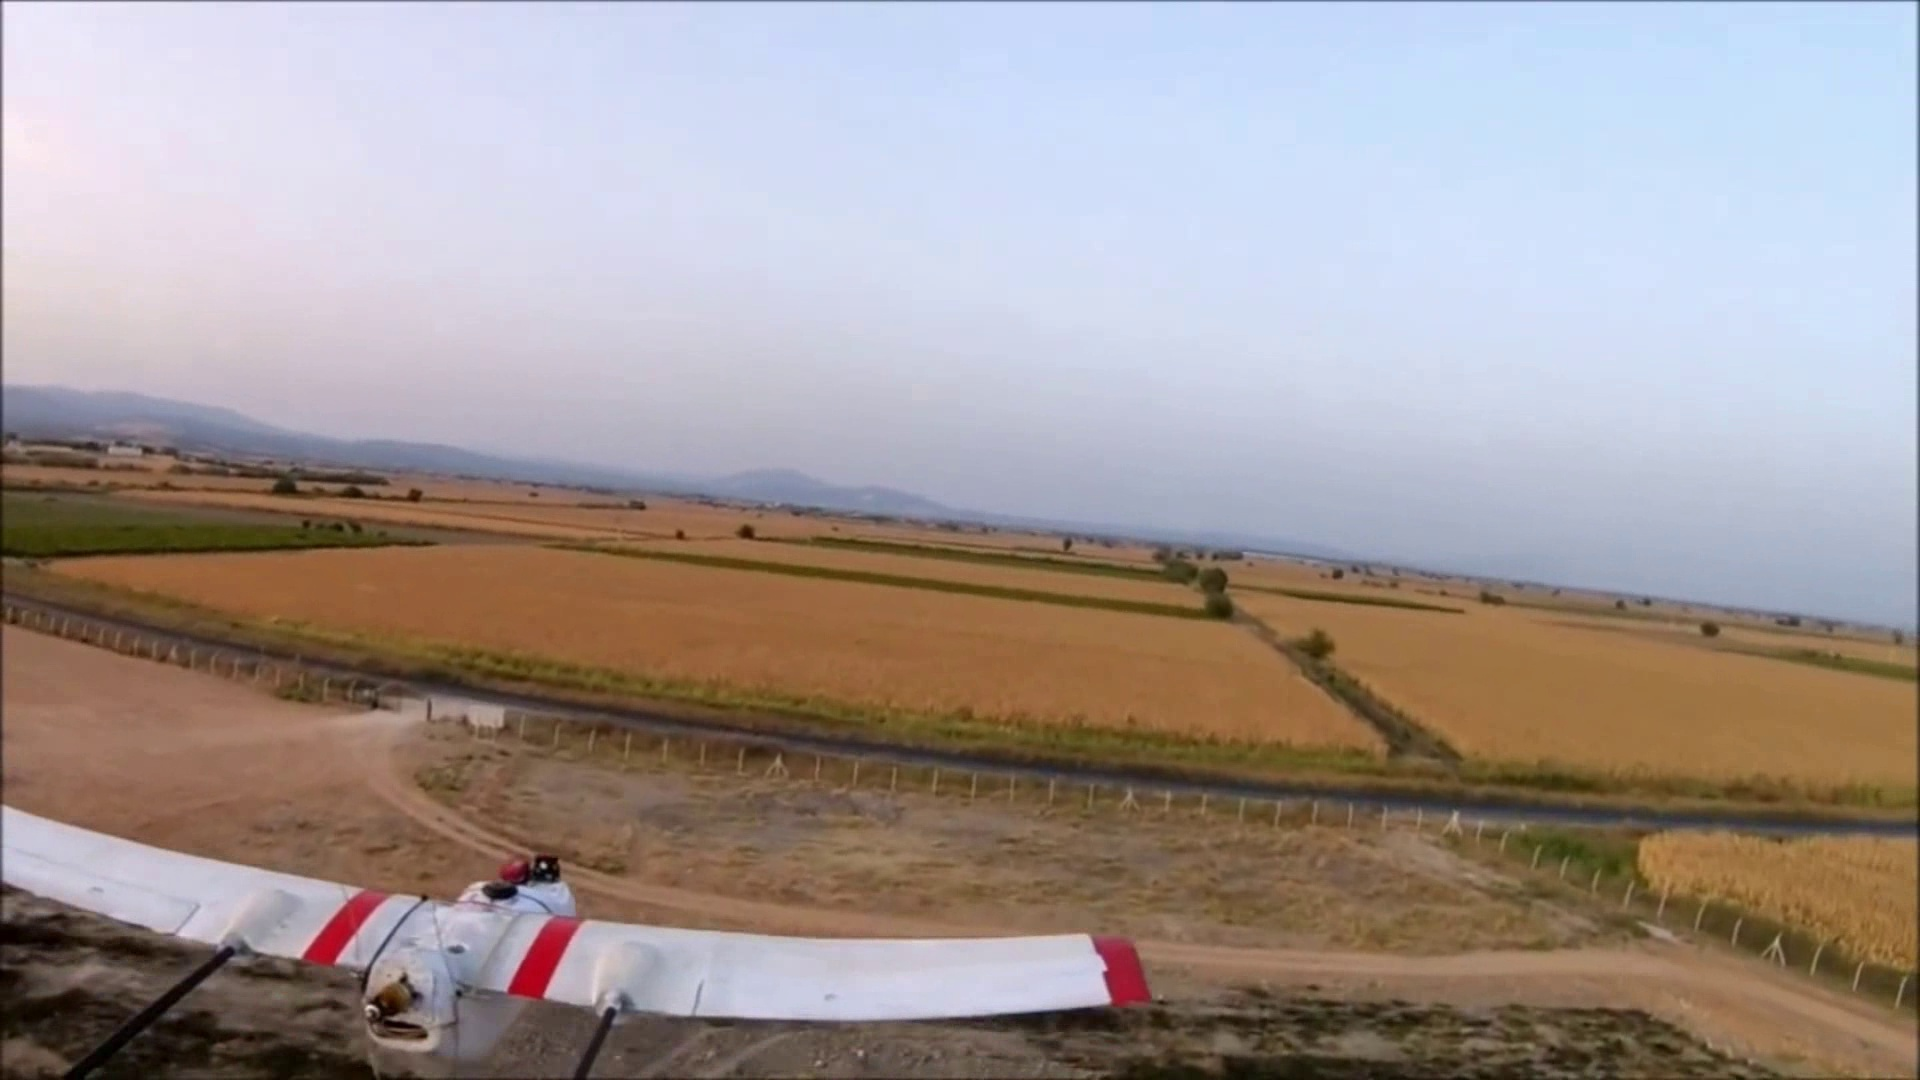airplane: (3, 800, 1170, 1052)
